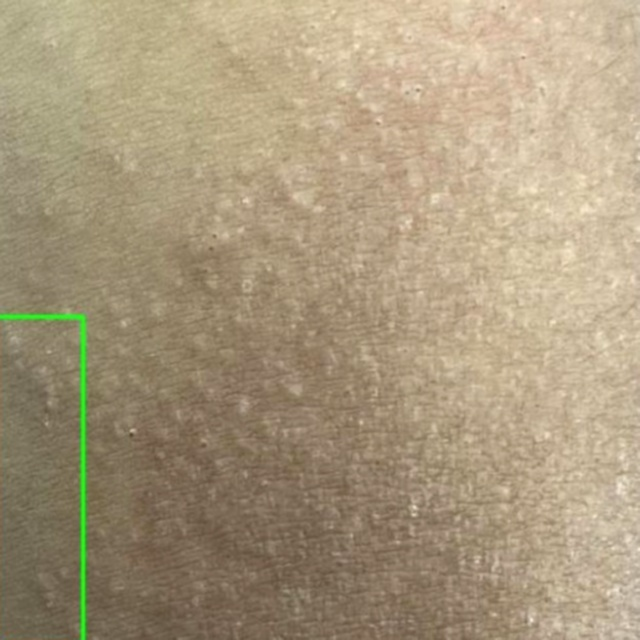Contact Dermatitis: (0, 316, 83, 639)
